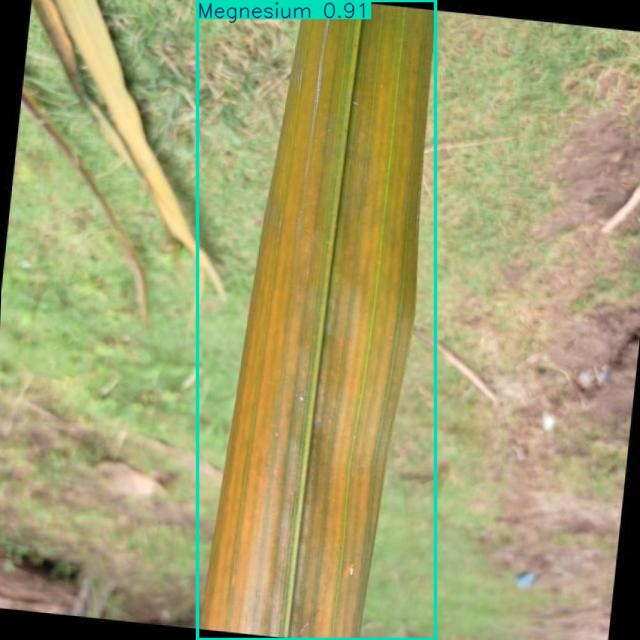Megnesium: (198, 0, 436, 639)
